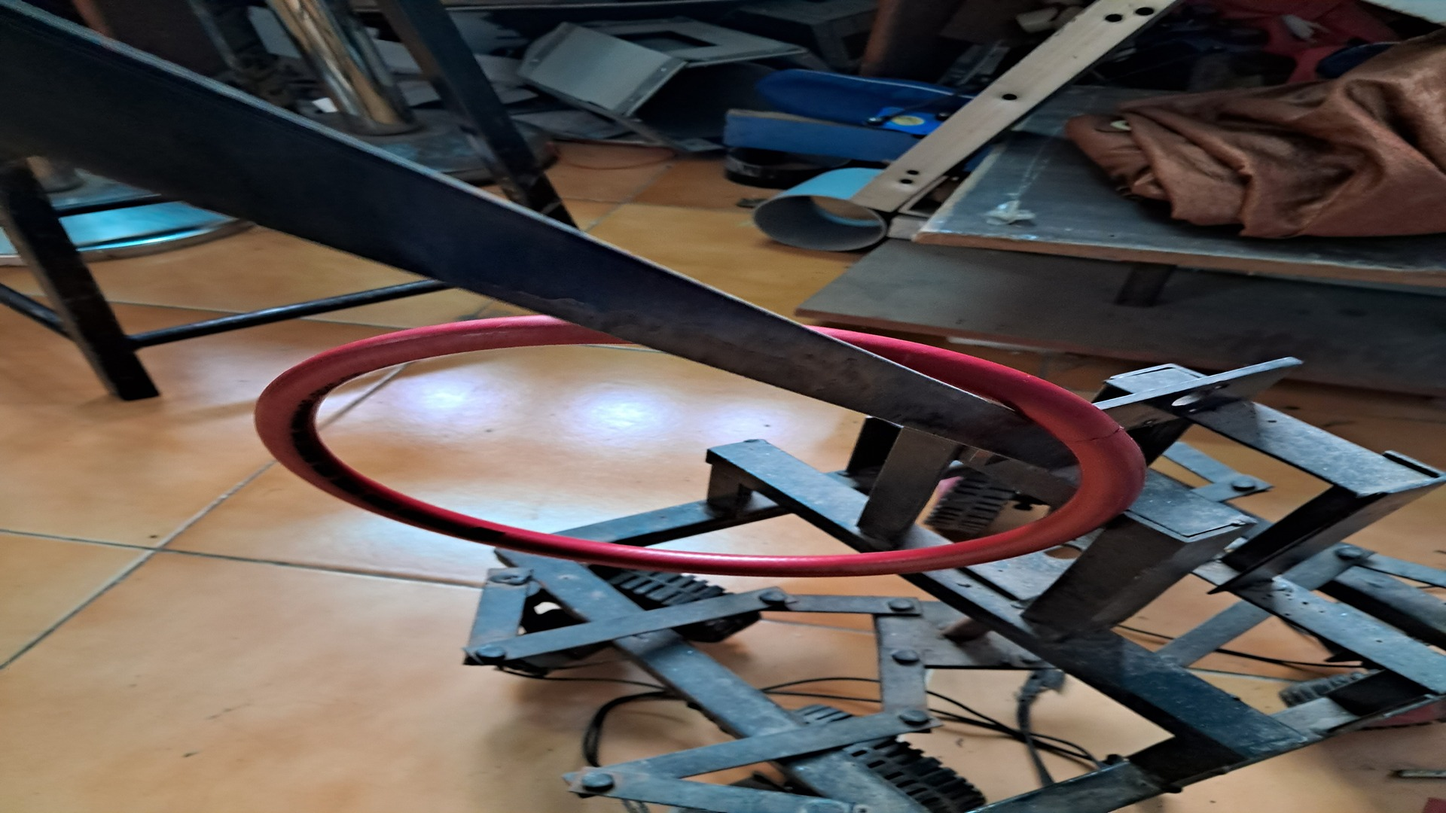Red ring: (253, 326, 1135, 577)
